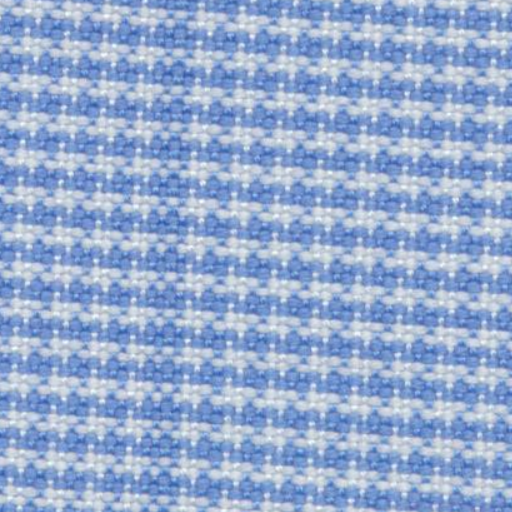TuoSha: (116, 13, 240, 501)
